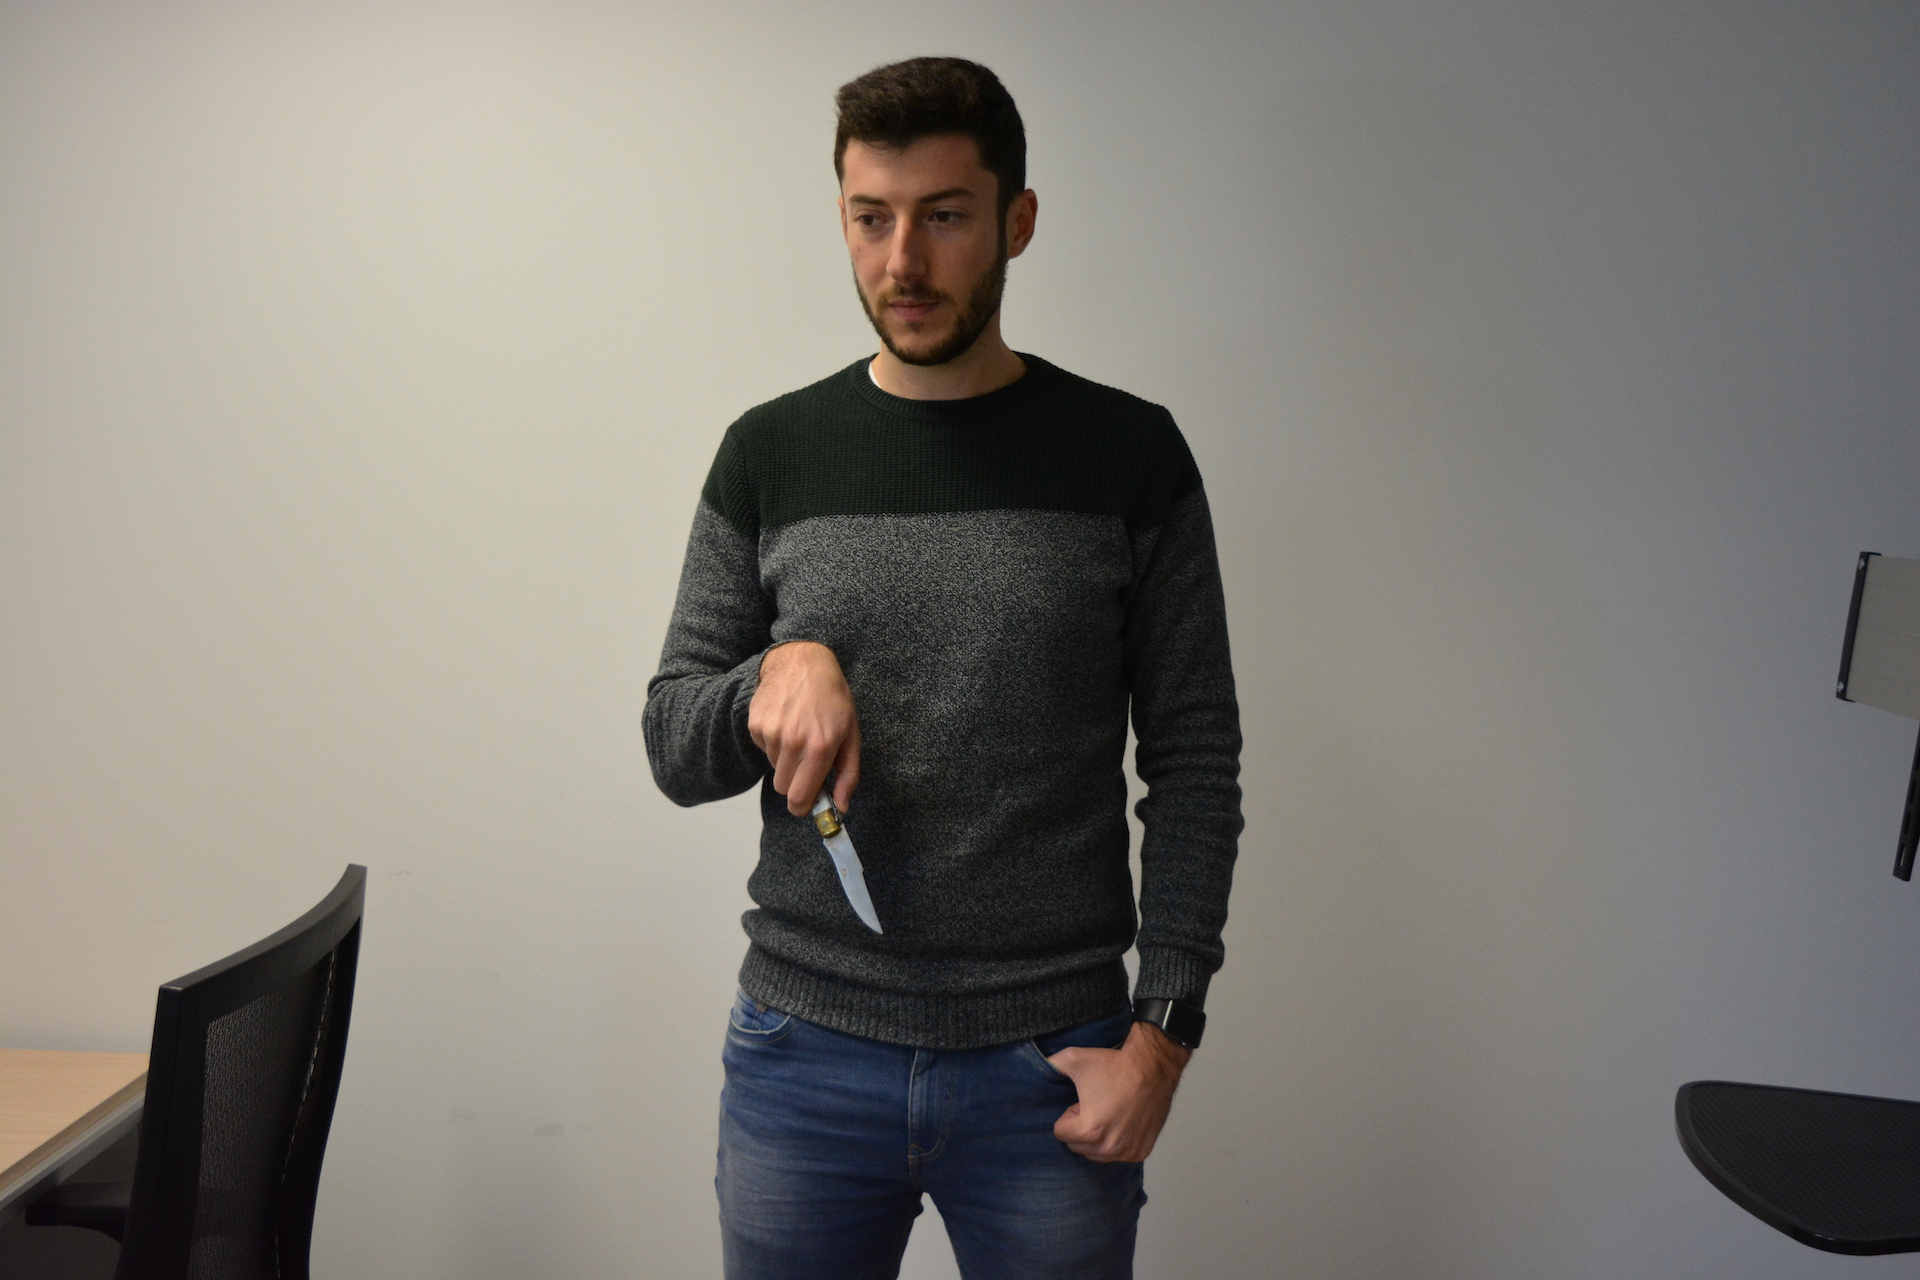knife: (766, 747, 890, 949)
